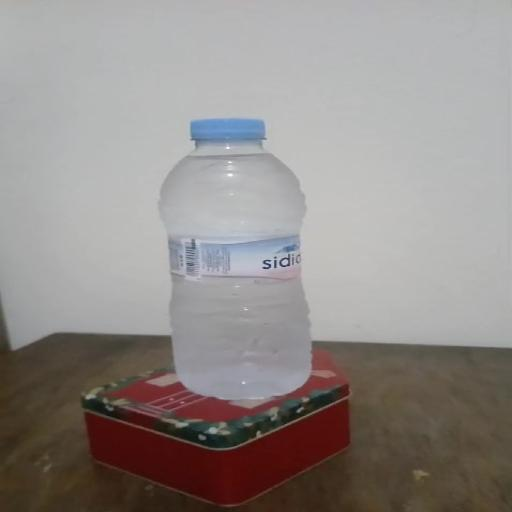bouteille conformite: (146, 105, 338, 399)
